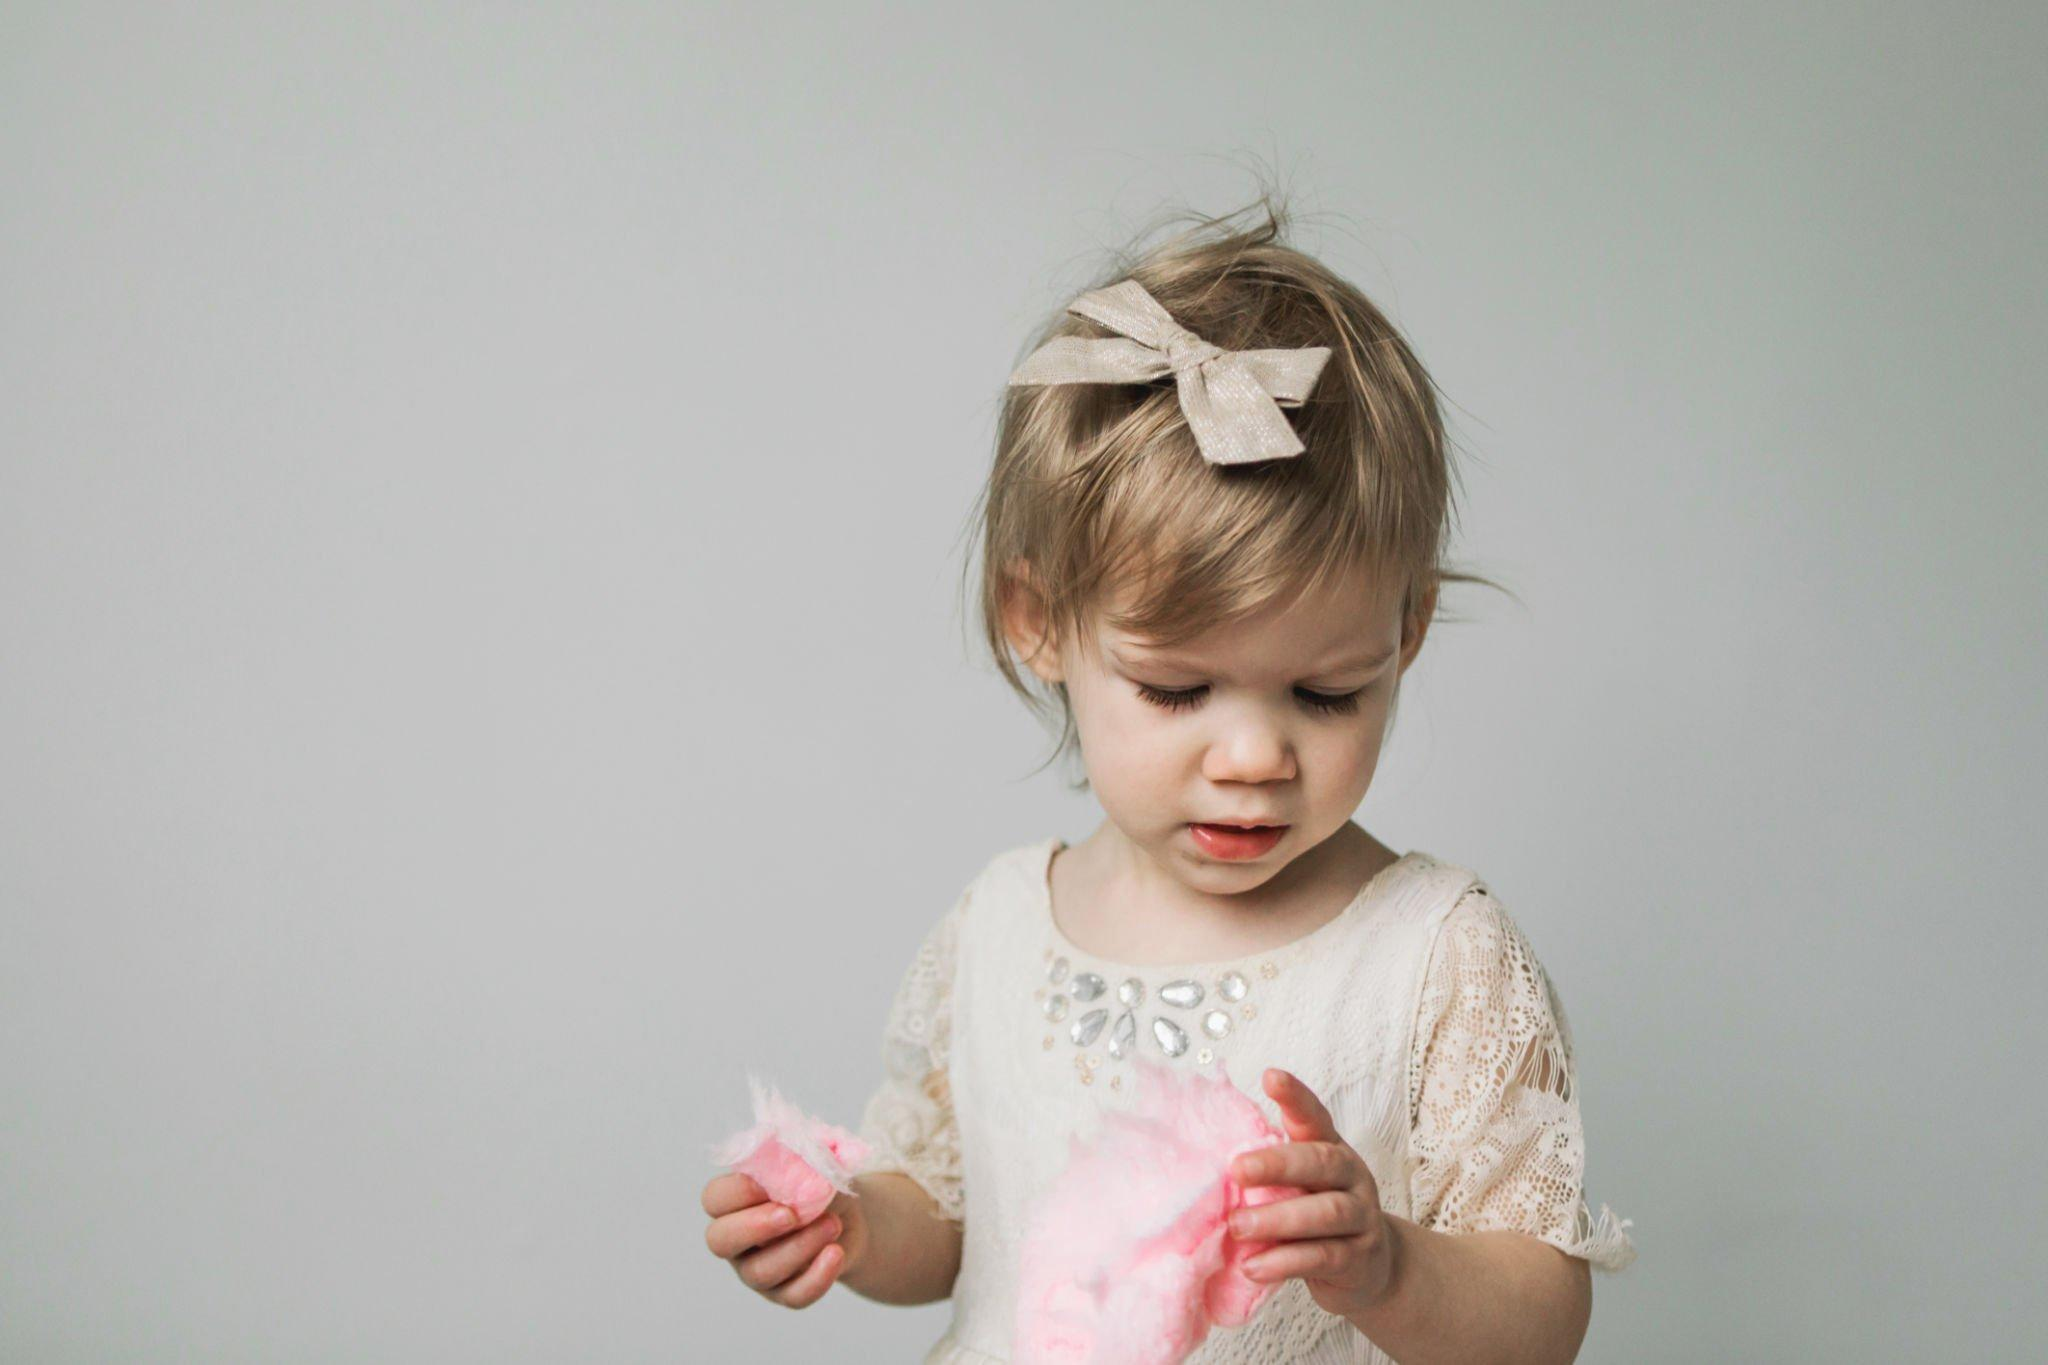Healthy: (997, 477, 1419, 919)
